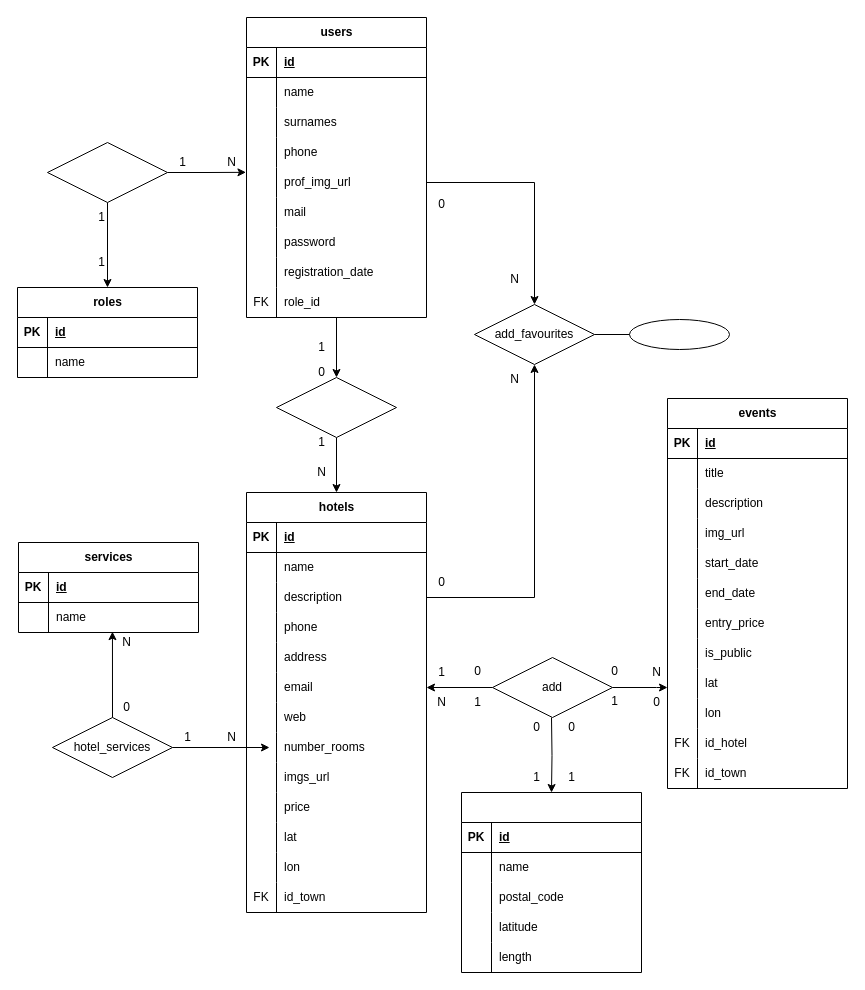
Some shapes in this 865 by 990 pixel diagram are drawn without their labels. Each missing label, with the box of its shape:
gestionar: (276, 376, 396, 438)
have_role: (46, 142, 168, 202)
star_rating: (628, 318, 730, 350)
towns: (460, 792, 642, 972)
